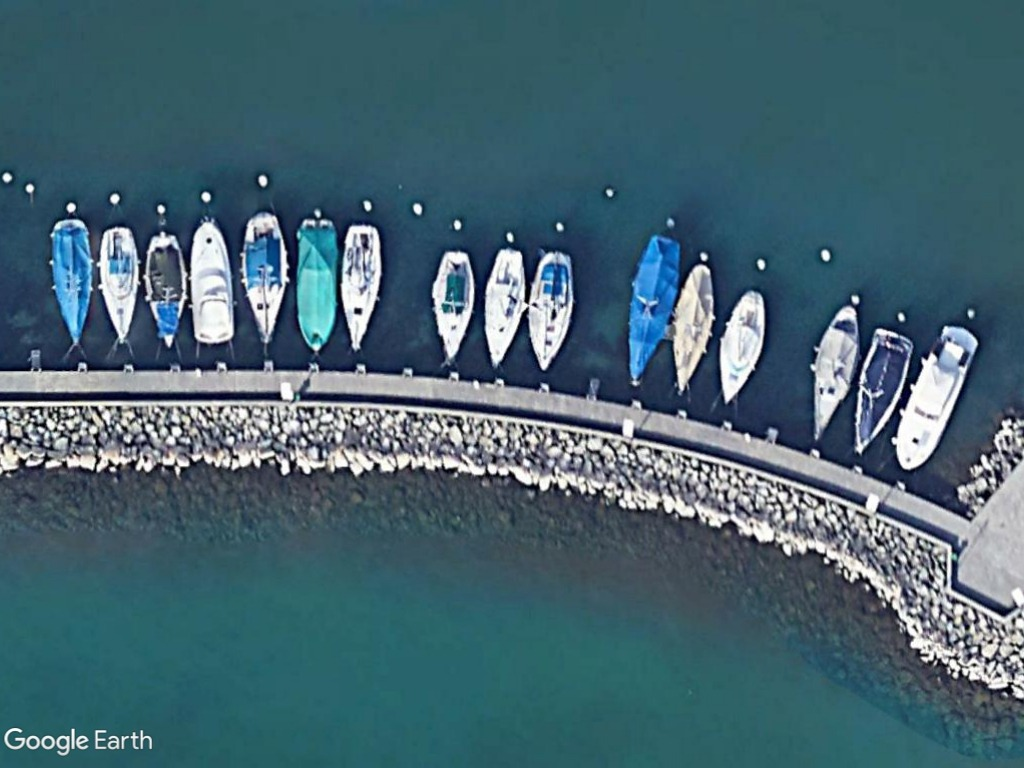boat: (890, 324, 981, 472), (615, 234, 682, 386), (847, 328, 916, 454), (805, 304, 865, 439), (239, 207, 291, 348), (711, 284, 770, 406), (524, 248, 579, 376), (479, 241, 530, 371), (335, 219, 384, 353), (293, 211, 338, 356), (49, 217, 95, 349), (672, 262, 718, 394), (429, 246, 479, 364), (189, 215, 233, 346), (95, 219, 139, 349), (143, 228, 188, 354)
